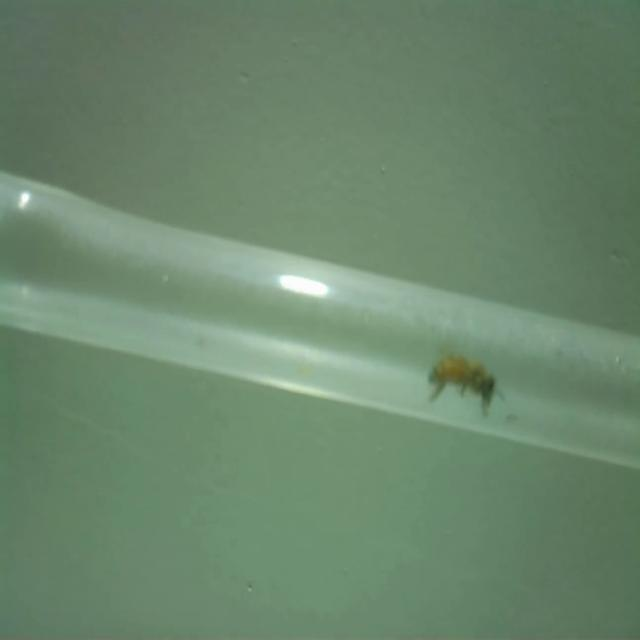Honeybee-Detection: (428, 342, 505, 417)
